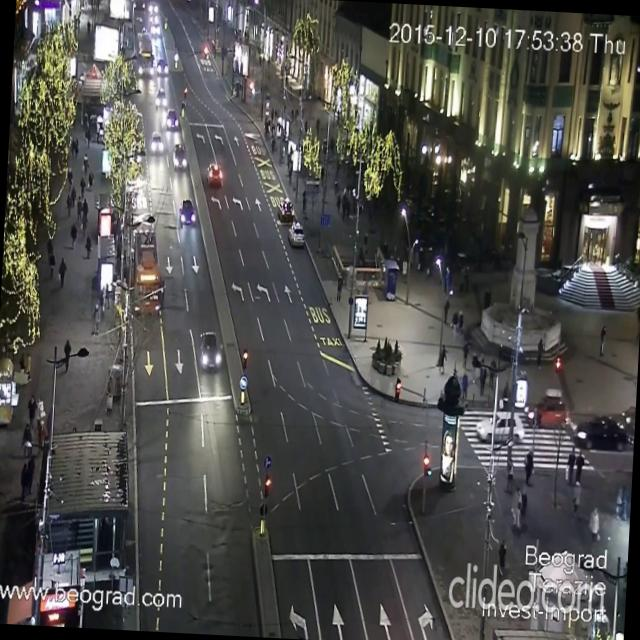bus: (132, 228, 166, 314), (131, 32, 154, 76)
car: (568, 408, 628, 459), (528, 391, 571, 422), (475, 413, 526, 438), (198, 331, 222, 373), (287, 221, 306, 248), (178, 199, 197, 226), (206, 162, 223, 187), (172, 146, 186, 174), (168, 105, 182, 132), (150, 132, 164, 155), (282, 201, 294, 223), (157, 91, 166, 107), (158, 62, 168, 76)
